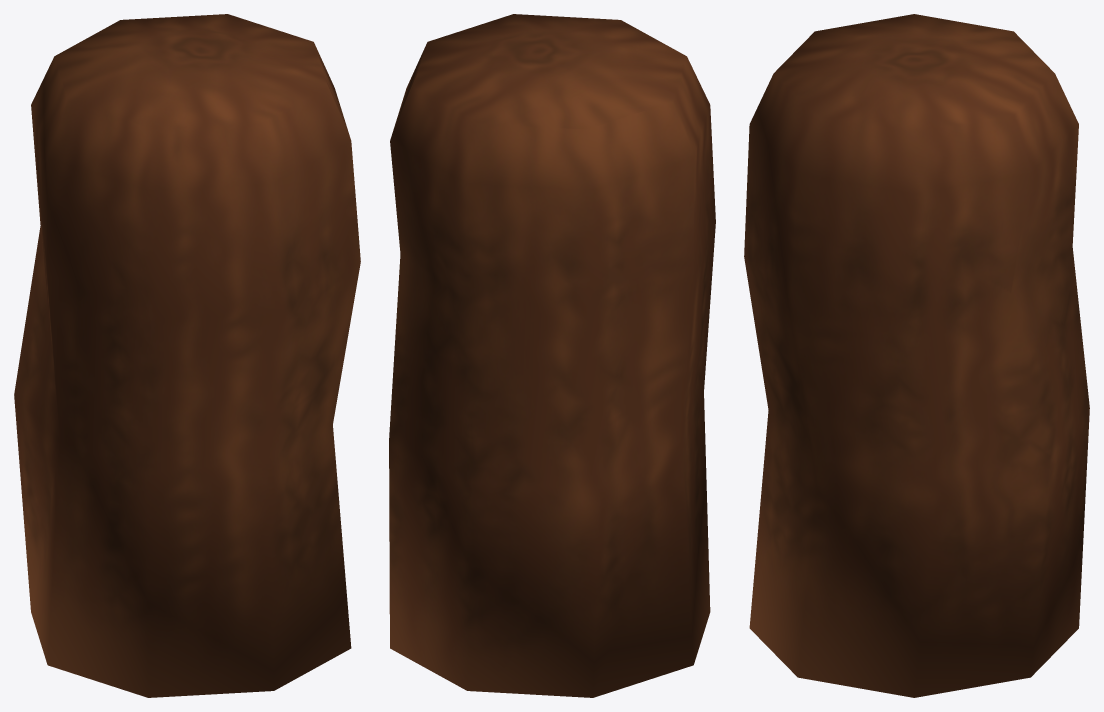
The model's file is Branch_01.obj.
The picture shows the model from 3 angles, left to right: view 1: azimuth 30°, elevation 25°; view 2: azimuth 150°, elevation 25°; view 3: azimuth 270°, elevation 25°; orthographic projection.
Visible parts, largest first — view 1: Cylinder; view 2: Cylinder; view 3: Cylinder.
Part boxes in pixels (left/top/right/bottom): Cylinder: left=14, top=14, right=360, bottom=697; Cylinder: left=389, top=14, right=715, bottom=697; Cylinder: left=744, top=14, right=1089, bottom=697.
Size of the model in its own units: 1.02 by 1.92 by 1.05.
